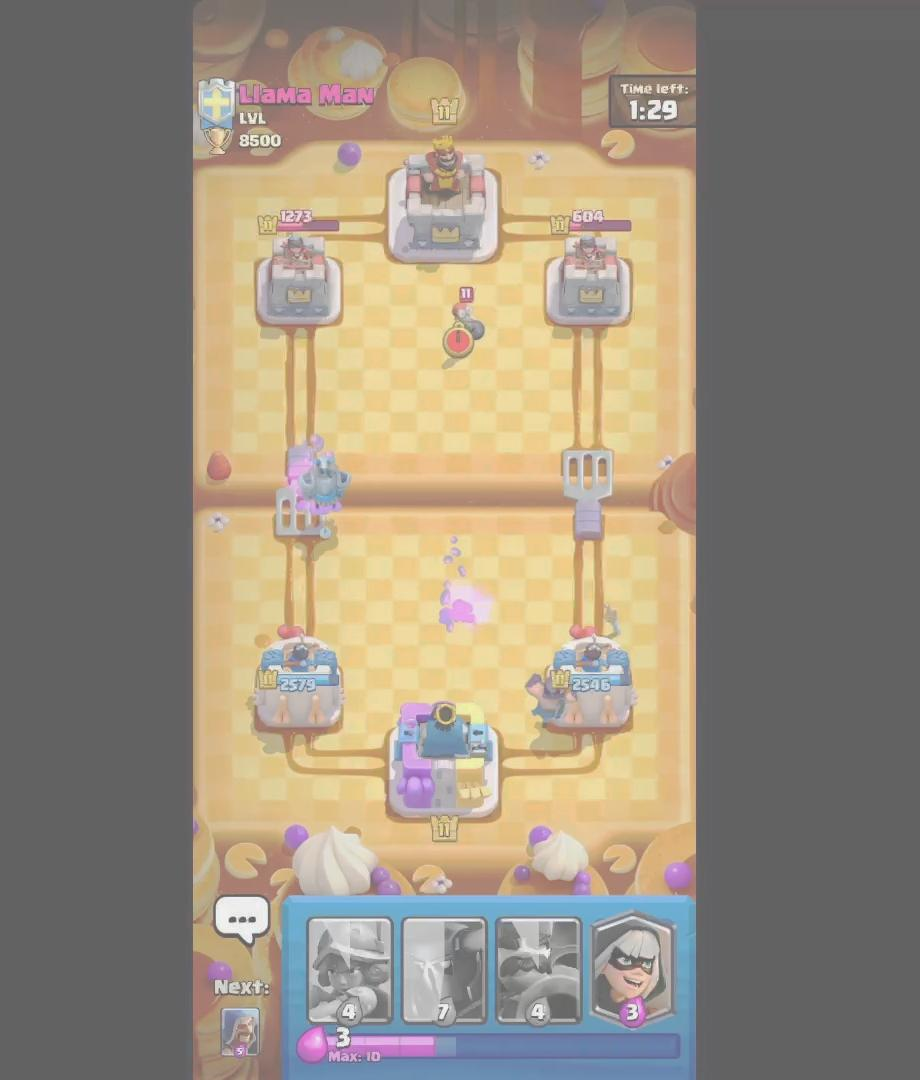Bomber: (439, 276, 489, 362)
